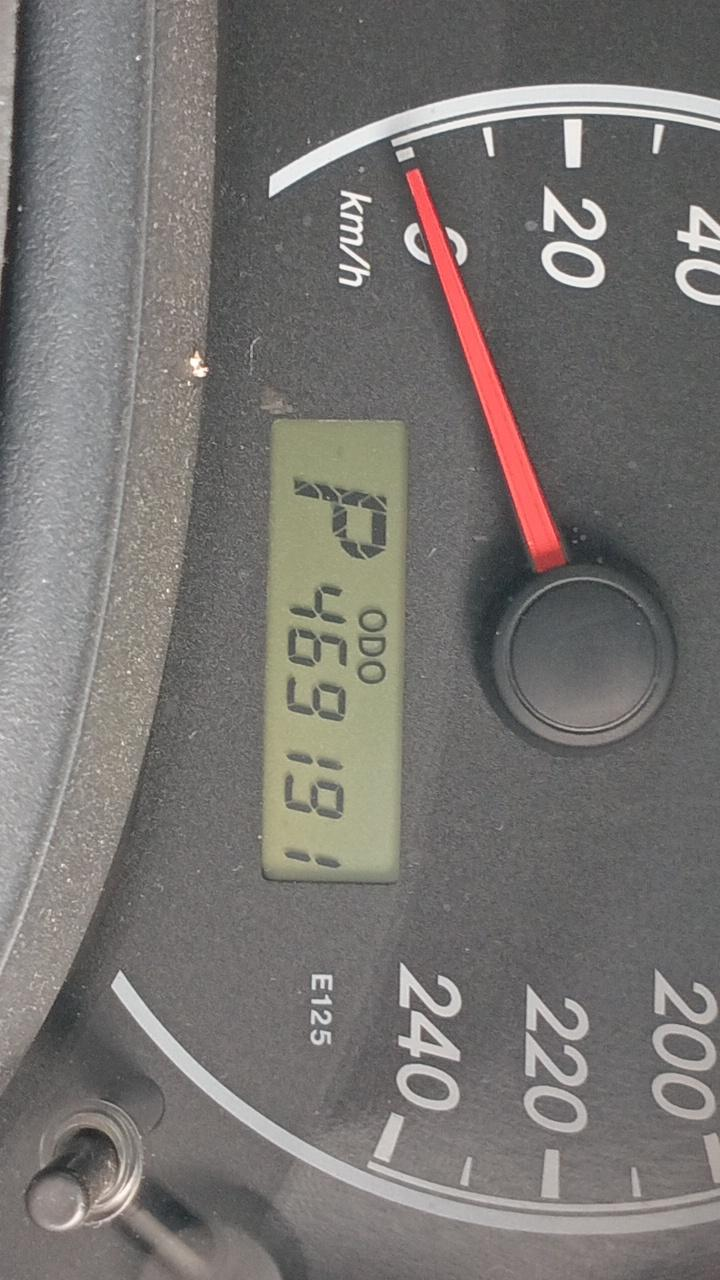1: (283, 848, 342, 870), (285, 751, 343, 772)
4: (288, 583, 347, 625)
6: (287, 629, 348, 668)
9: (286, 677, 347, 724), (284, 773, 344, 820)
X: (288, 477, 389, 563), (357, 608, 387, 633), (356, 661, 386, 685), (358, 637, 387, 657)
odometer: (263, 417, 409, 886)
